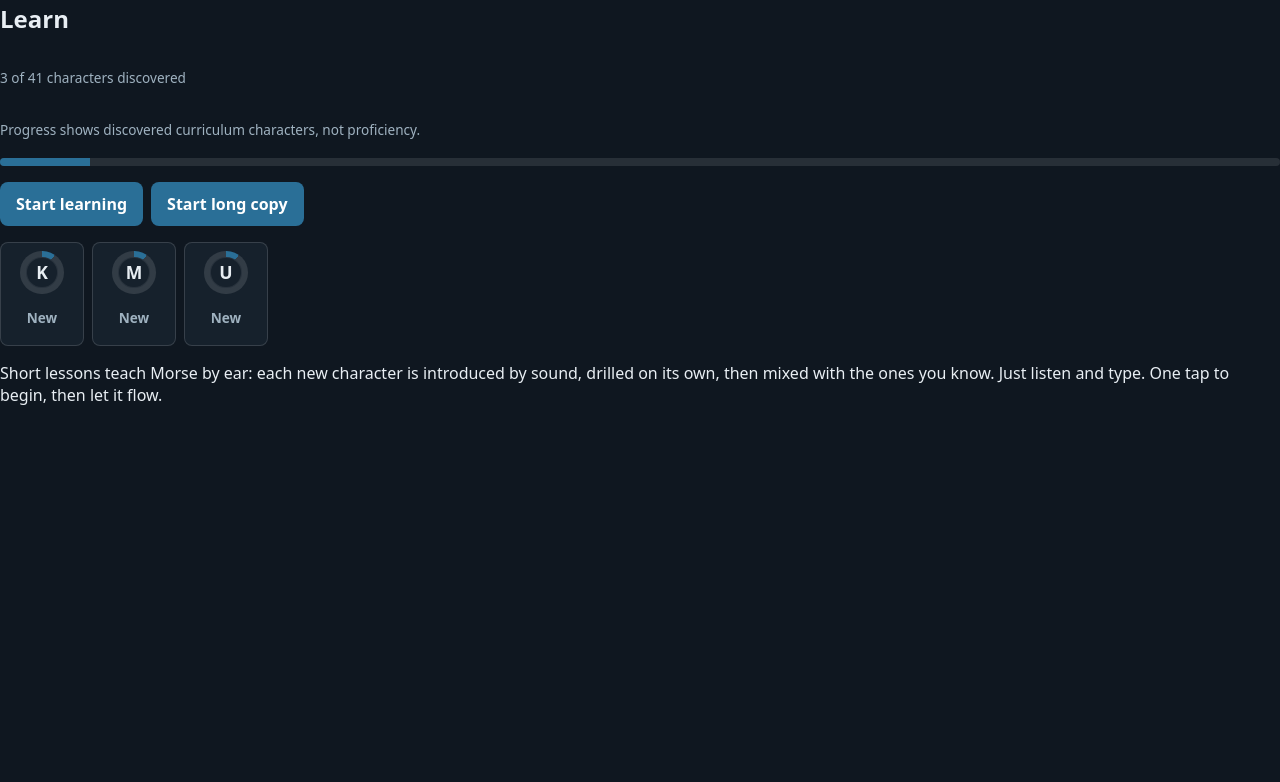
Scenario: LearnScreen input gating › starts long copy from detail action using the existing review flow
Click the button with aria-label "Character K": (42, 294) [0,242,84,346]
(page scrolled)
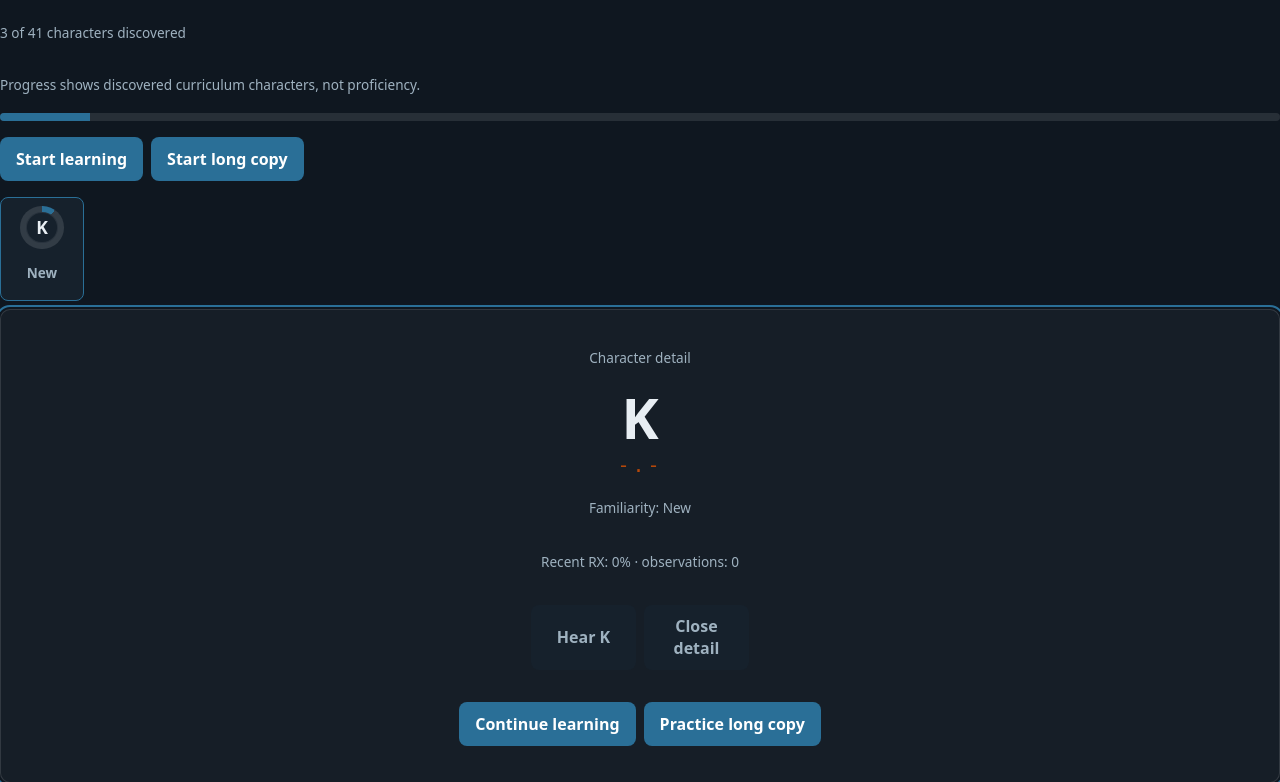
Click the button "Practice long copy": (732, 724) [644,702,821,746]
(page scrolled)
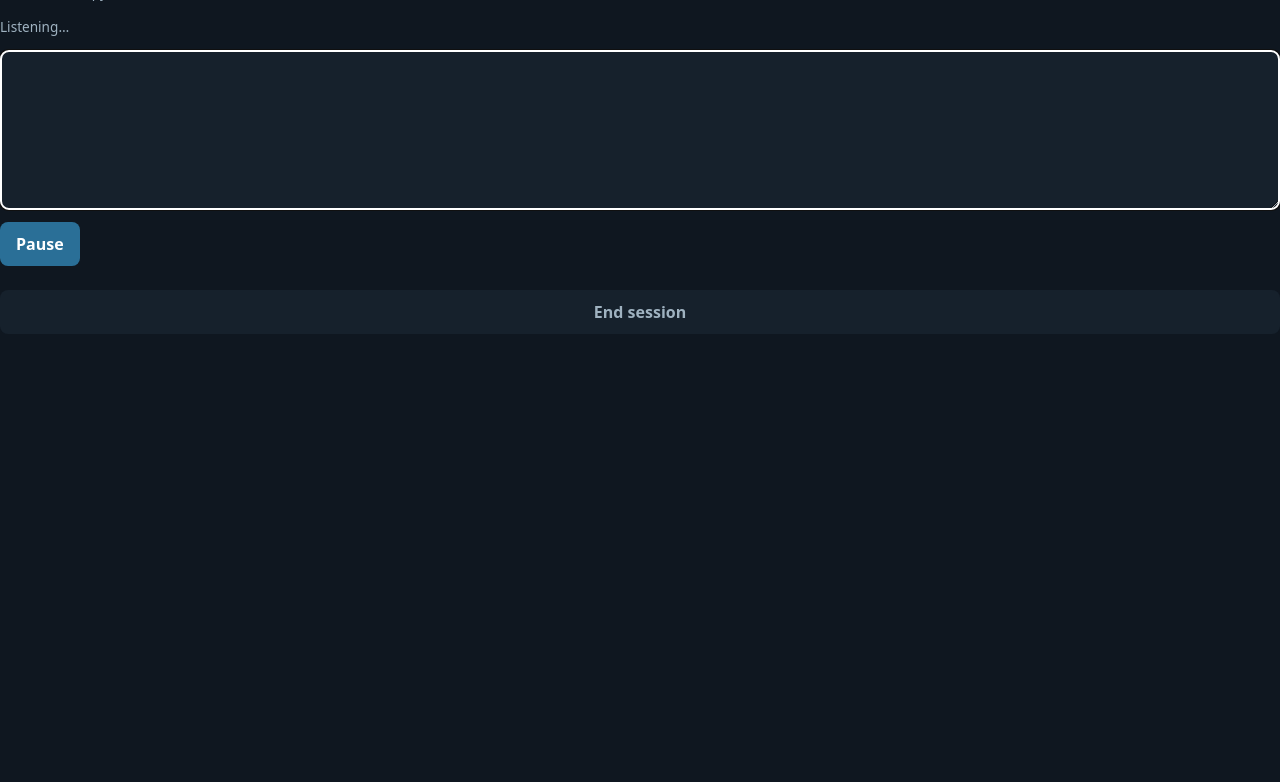
Now the text box named "Continuous copy" is shown, box [0,50,1279,210]
